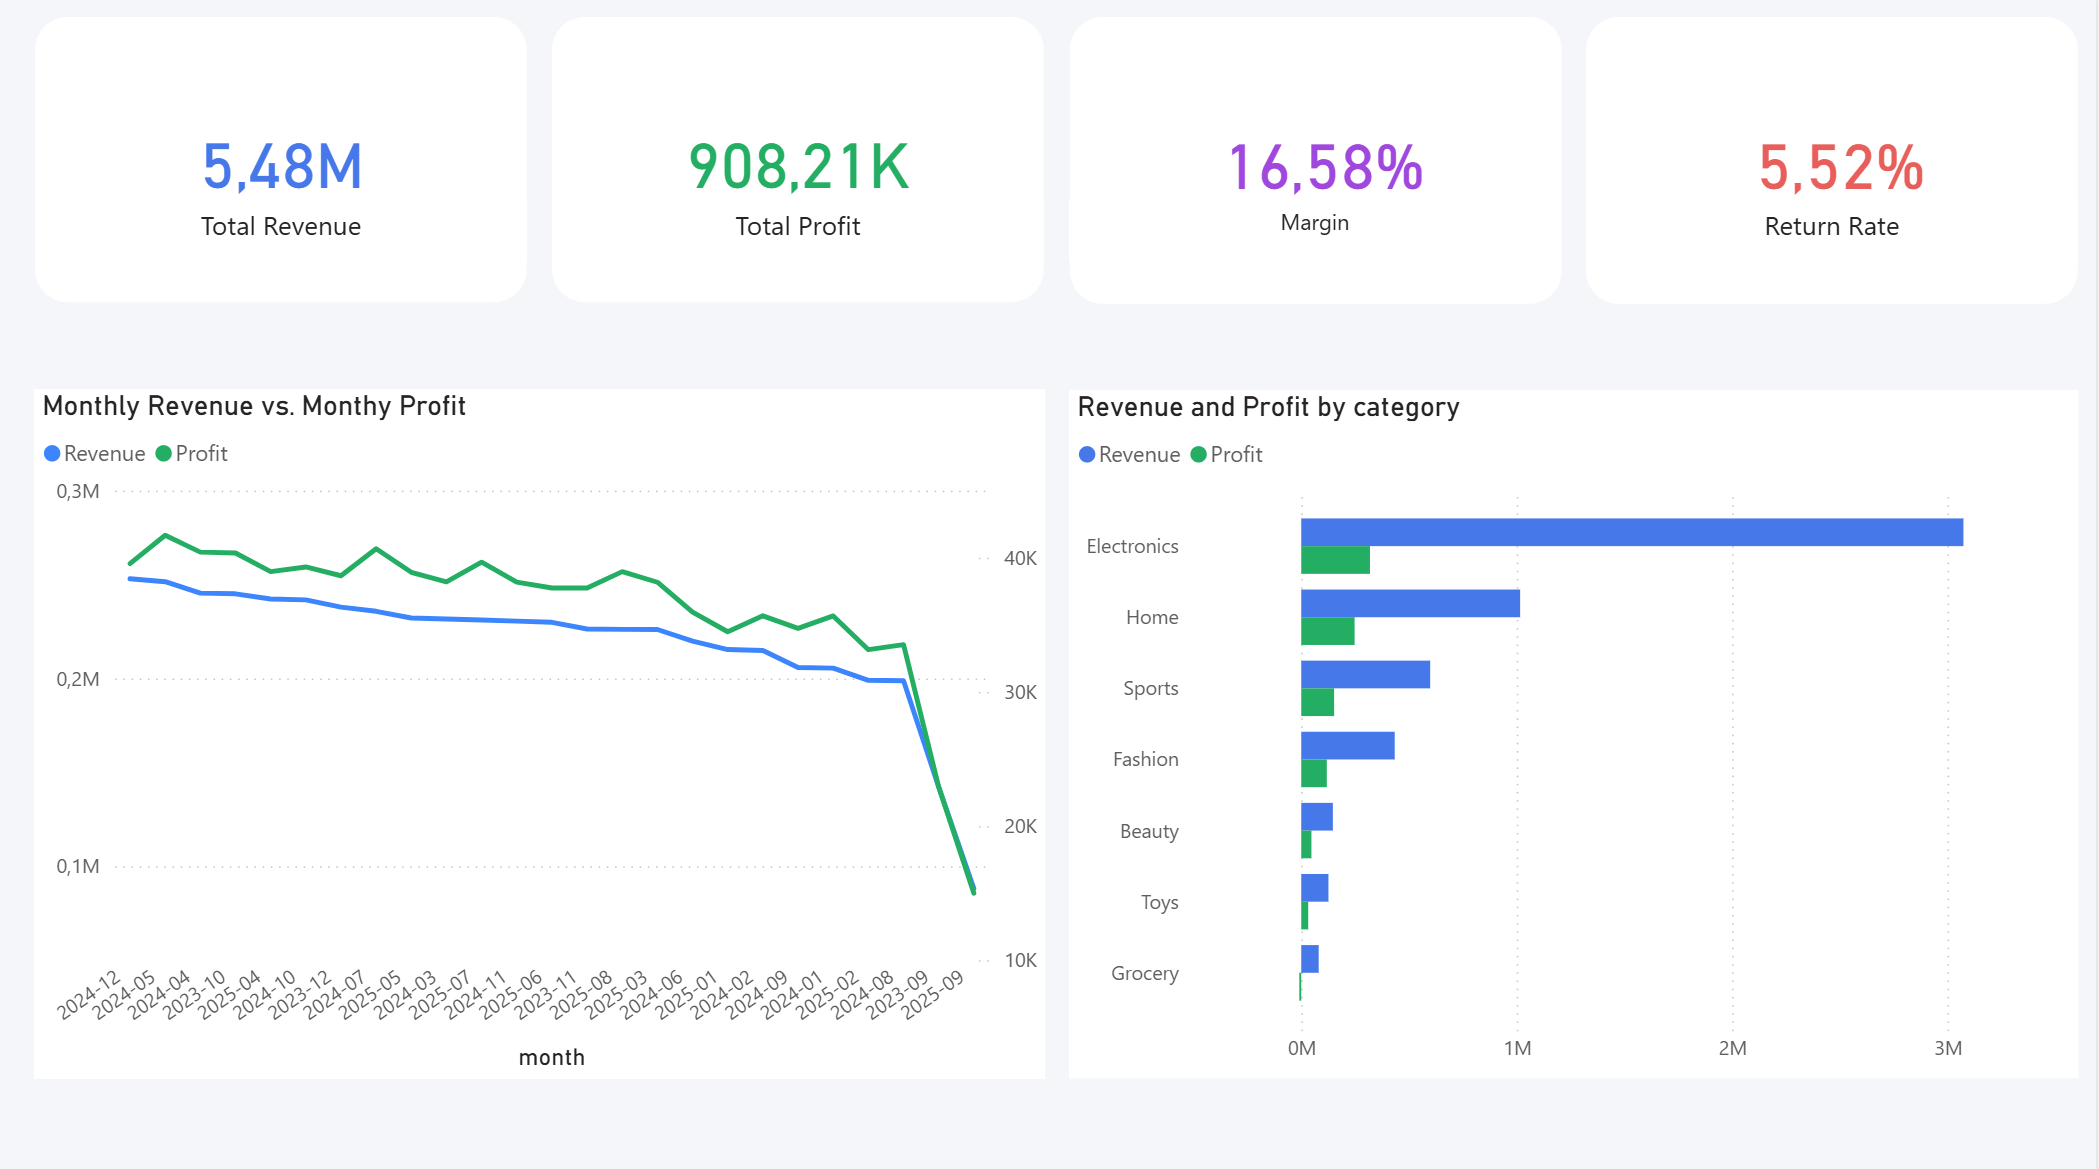

The page's visual inventory and layout, read from the dashboard file:
{"tool":"powerbi","page":{"name":"Executive Summary","canvas":[1280,720],"ordinal":0},"visuals":[{"type":"card","fields":{"Values":["Min(total_revenue_kpi.total_revenue)"]},"box":[22.7,13.6,300.3,174.4],"z":0},{"type":"card","fields":{"Values":["Min(total_profit_kpi.total_profit)"]},"box":[338.3,13.6,300.3,174.4],"z":1000},{"type":"card","fields":{"Values":["Min(overall_profit_margin_pct.profit_margin_pct)"]},"box":[653.8,13.6,300,175],"z":2000},{"type":"card","fields":{"Values":["Min(return_rate_kpi.return_rate_pct)"]},"box":[969.1,13.6,300,175],"z":3000},{"type":"lineChart","title":"Monthly Revenue vs. Monthy Profit","fields":{"Category":["monthly_kpi.month"],"Y":["Sum(monthly_kpi.total_revenue)"],"Y2":["Sum(monthly_profit.total_profit)"]},"box":[22.2,240.5,617.1,420.9],"z":4000},{"type":"textbox","box":[22.7,124.4,300.3,37.9],"z":5000},{"type":"textbox","box":[338.2,124.4,300.3,37.9],"z":6000},{"type":"textbox","box":[653.6,124.4,300.3,37.9],"z":7000},{"type":"textbox","box":[969.1,124.4,300.3,37.9],"z":8000},{"type":"clusteredBarChart","fields":{"Category":["profit_by_category.category"],"Y":["Sum(profit_by_category.total_revenue)","Sum(profit_by_category.total_profit)"]},"box":[653.6,241.1,615.7,420.1],"z":9000}]}

Visuals, with their boxes in screenshot pixels (x1, y1, x2, y2), scaled from the page's 1280x720 canvas onto the 2099x1169 screenshot:
card - Min(total_revenue_kpi.total_revenue): Rect(37, 22, 530, 305)
card - Min(total_profit_kpi.total_profit): Rect(555, 22, 1047, 305)
card - Min(overall_profit_margin_pct.profit_margin_pct): Rect(1072, 22, 1564, 306)
card - Min(return_rate_kpi.return_rate_pct): Rect(1589, 22, 2081, 306)
"Monthly Revenue vs. Monthy Profit" lineChart: Rect(36, 390, 1048, 1074)
textbox: Rect(37, 202, 530, 264)
textbox: Rect(555, 202, 1047, 264)
textbox: Rect(1072, 202, 1564, 264)
textbox: Rect(1589, 202, 2082, 264)
clusteredBarChart - profit_by_category.category x Sum(profit_by_category.total_revenue): Rect(1072, 391, 2081, 1074)
